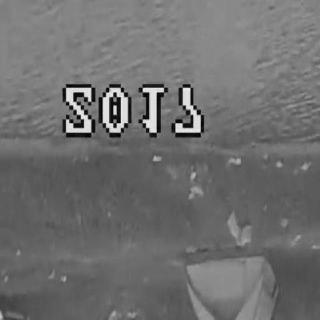other: (182, 248, 286, 318)
